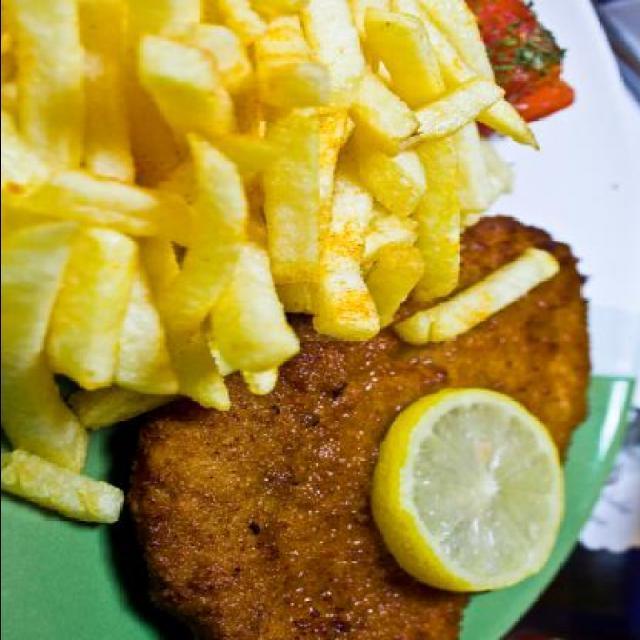Lemon: (380, 393, 564, 587)
